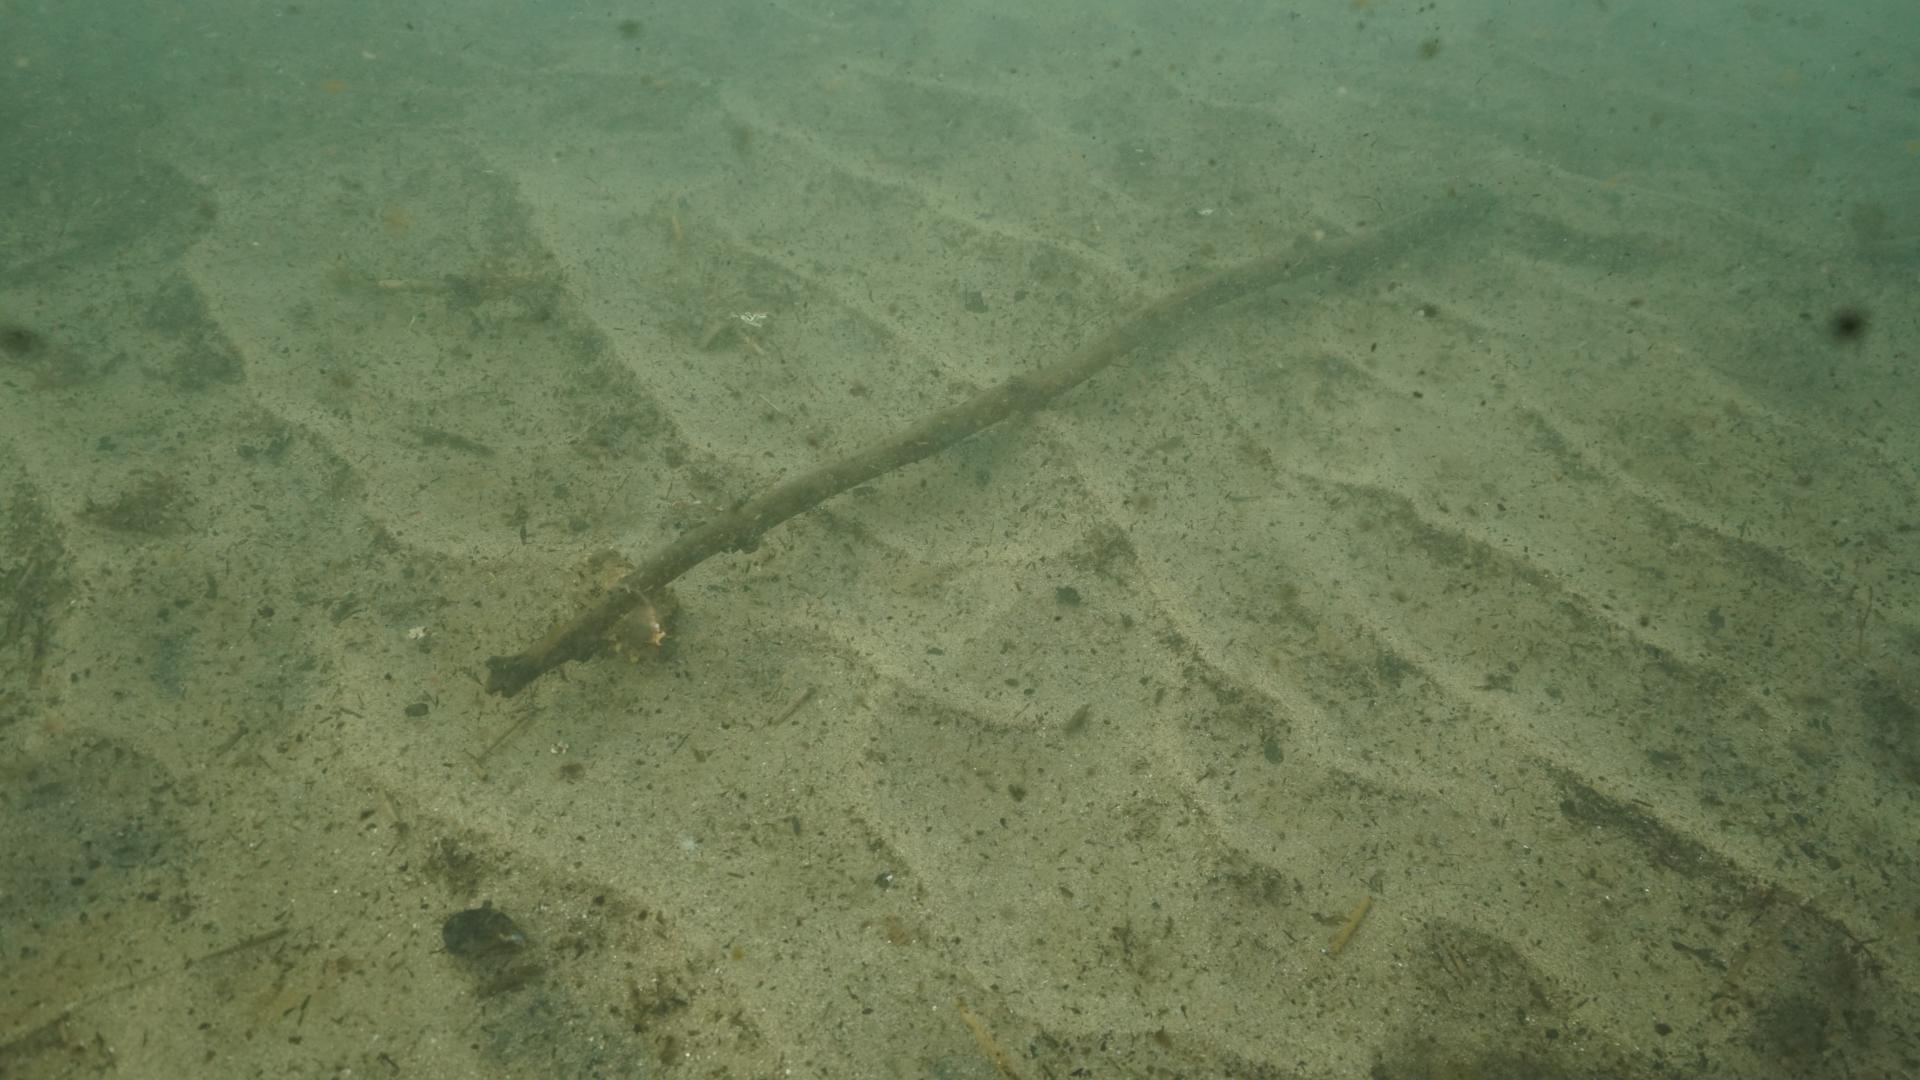wood: (480, 204, 1429, 702)
